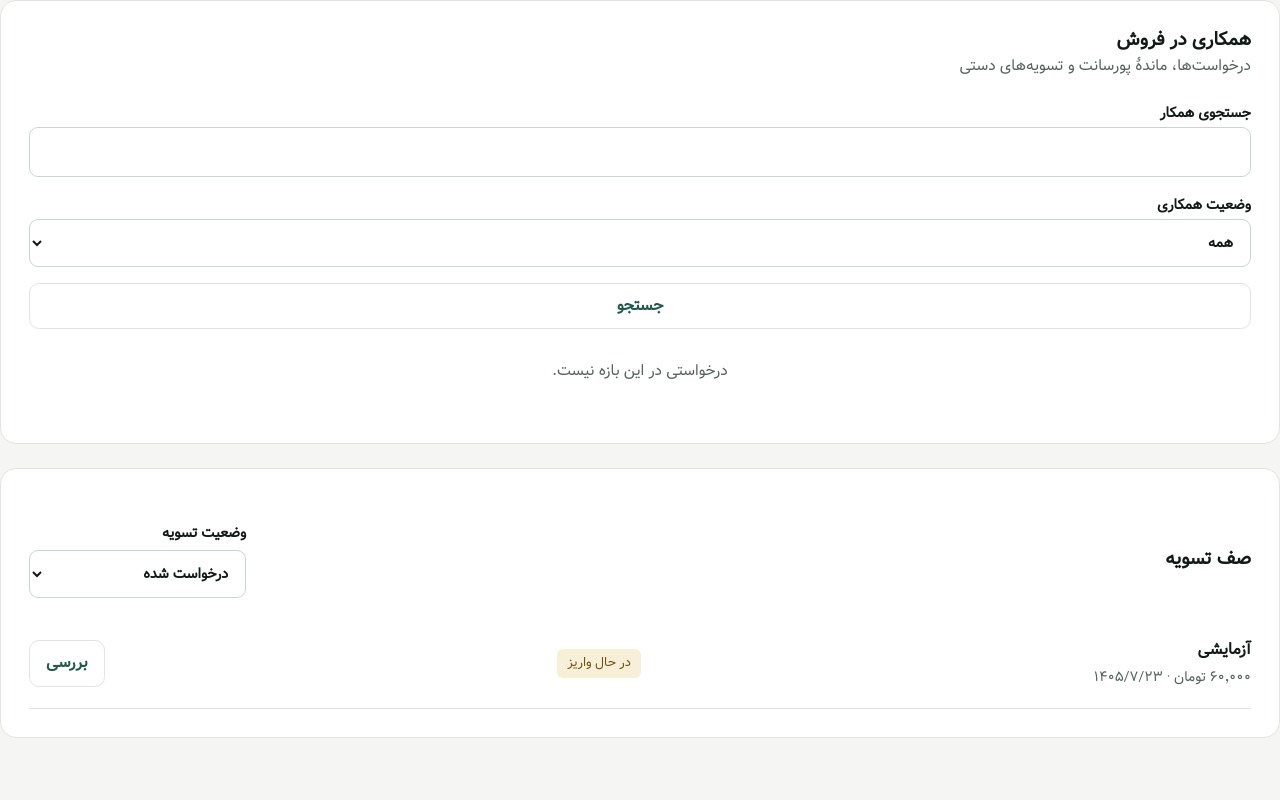
Test: another admin cannot see transfer instructions or mark a claimed payout paid
The image size is (1280, 800).
Step 1. Click the button with aria-label "بررسی تسویه 9" → [67, 663], box x1=29 y1=640 x2=105 y2=687
(page scrolled)
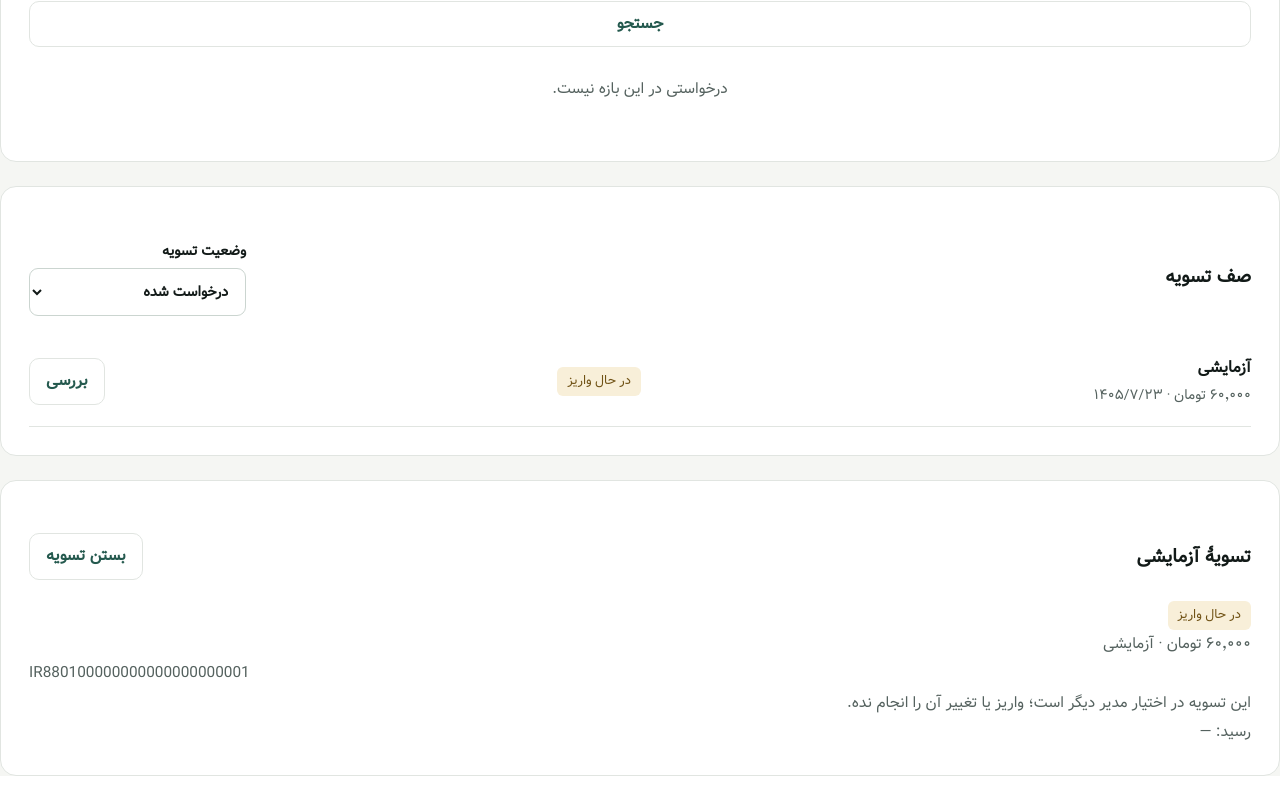
Expected: the text "در اختیار مدیر دیگر" is shown, x1=847 y1=691 x2=1251 y2=715
